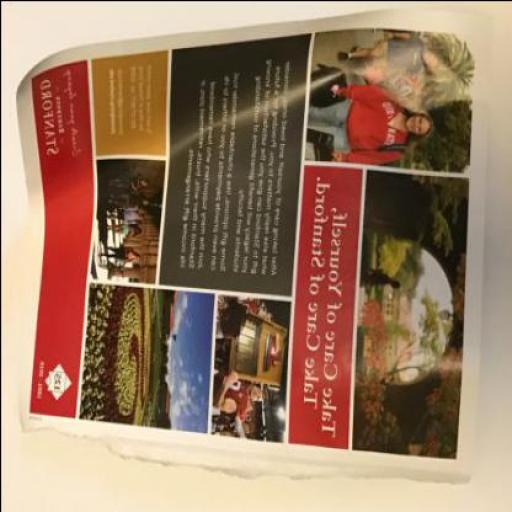paper: (14, 10, 489, 486)
